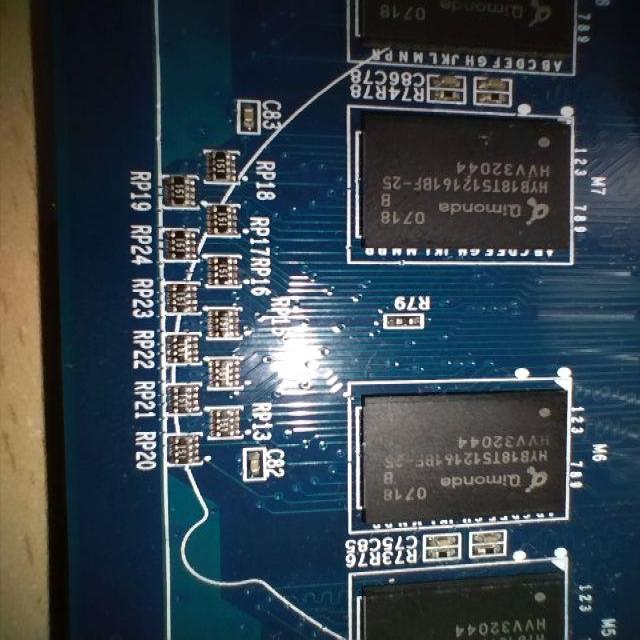resistor: (202, 404, 248, 448), (162, 169, 200, 220), (202, 300, 242, 348), (202, 203, 245, 244), (385, 313, 427, 331)
